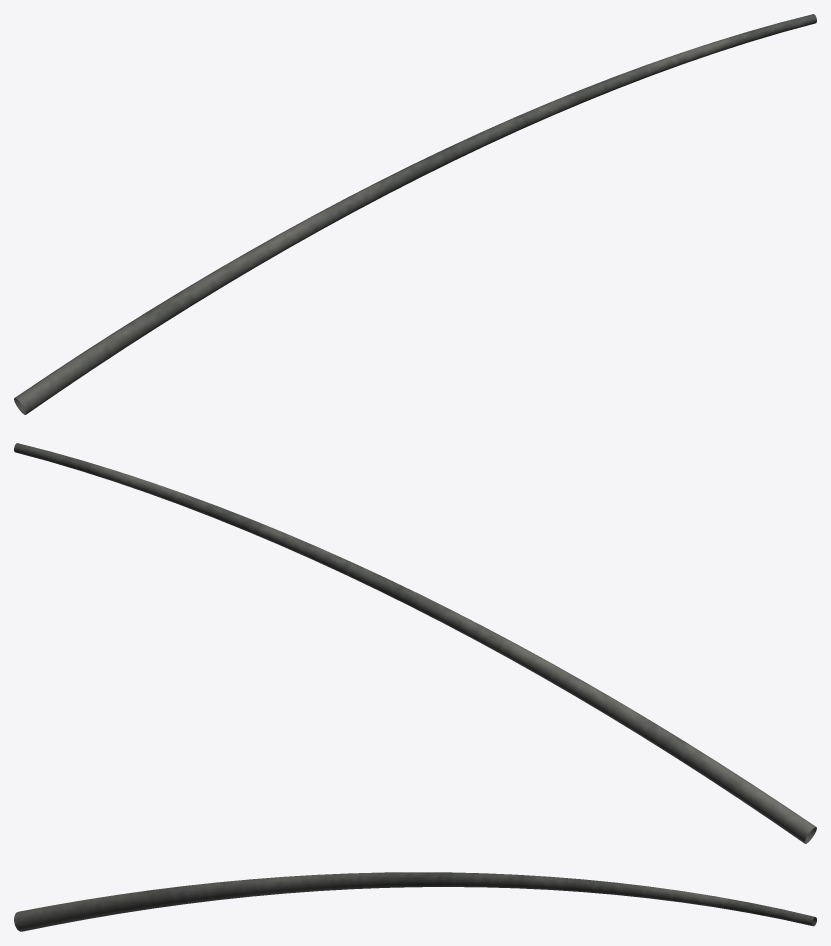
The model's file is armRise3-v1.glb.
3 views of the same model, one above another, from view 1: azimuth 30°, elevation 25°; view 2: azimuth 150°, elevation 25°; view 3: azimuth 330°, elevation 25° (orthographic).
Parts seen in each view (by area): view 1: armRise3-v1; view 2: armRise3-v1; view 3: armRise3-v1.
Part boxes in pixels (x1,y1,x2,y2): armRise3-v1: [14, 14, 816, 414]; armRise3-v1: [14, 443, 816, 843]; armRise3-v1: [14, 872, 816, 931].
Size of the model in its own units: 9.18 by 2.27 by 0.2032.
Materials: 1 (1 with a texture image).
